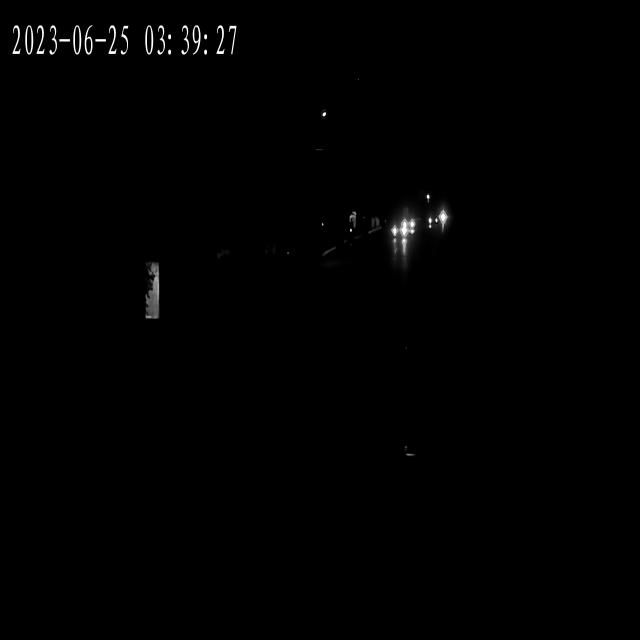Car: (390, 218, 412, 254)
